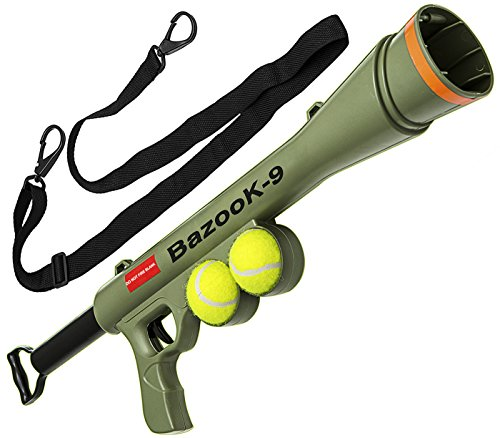tennis_ball: (186, 261, 244, 329), (230, 230, 293, 290)
